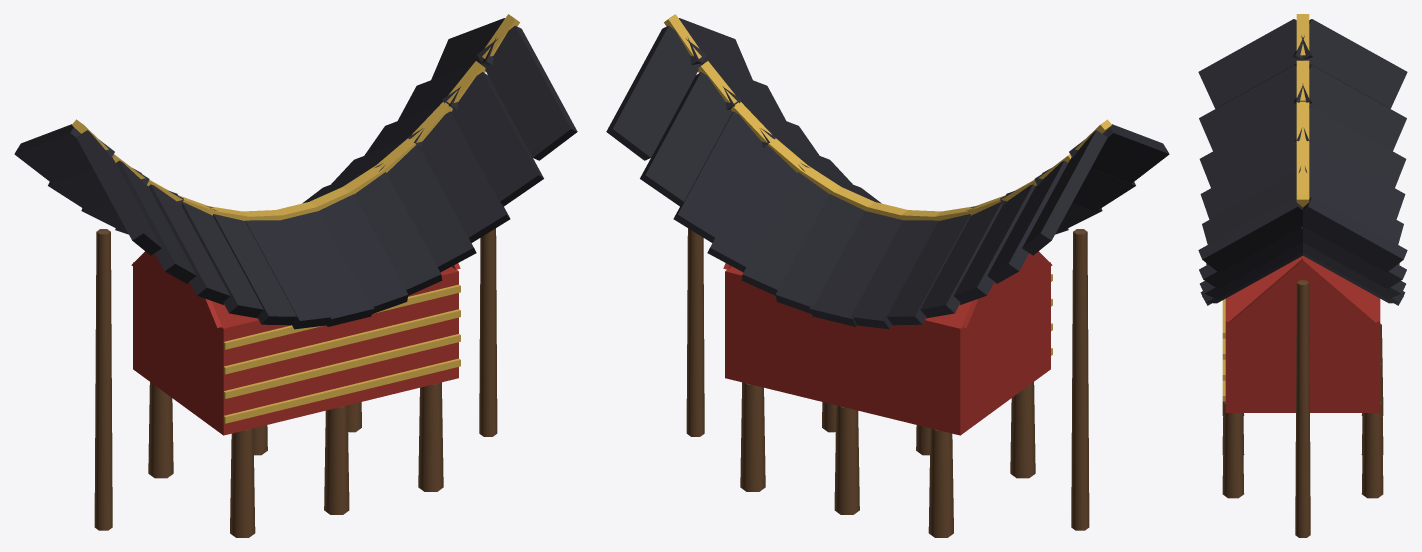
The model's file is tongkonan.glb.
3 renders of one model, left to right at view 1: azimuth 30°, elevation 25°; view 2: azimuth 150°, elevation 25°; view 3: azimuth 270°, elevation 25°, orthographic. The views are drawn at different scales.
Visible parts, largest first — view 1: tongkonan_mesh; view 2: tongkonan_mesh; view 3: tongkonan_mesh.
Part boxes in pixels (x1,y1,x2,y2): tongkonan_mesh: (14, 14, 577, 537); tongkonan_mesh: (606, 14, 1169, 537); tongkonan_mesh: (1198, 14, 1407, 537).
Bounding box in the file's own units: 5.68 × 5.01 × 2.71.
